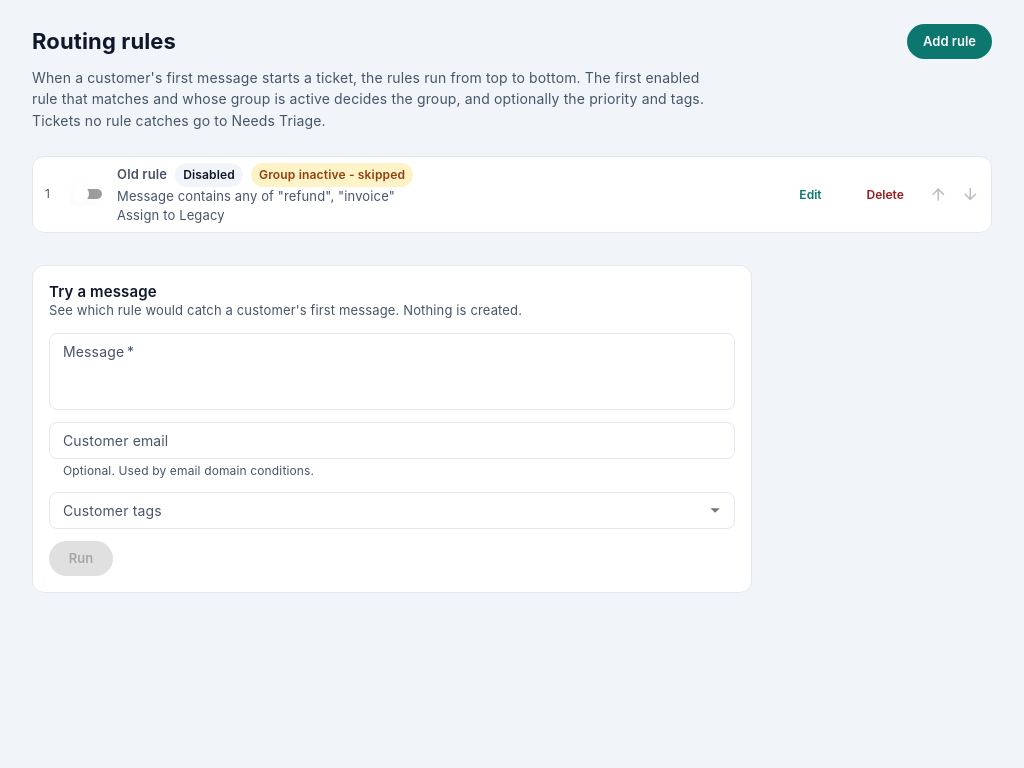
Test: RoutingRulesView list › toasts when enabling a rule with an inactive group is refused, and leaves the switch off
What coordinates should you click on to do the following:
click the switch named "Enable Old rule"
I would click on:
 (81, 194)
Its box is [73,186,89,202].
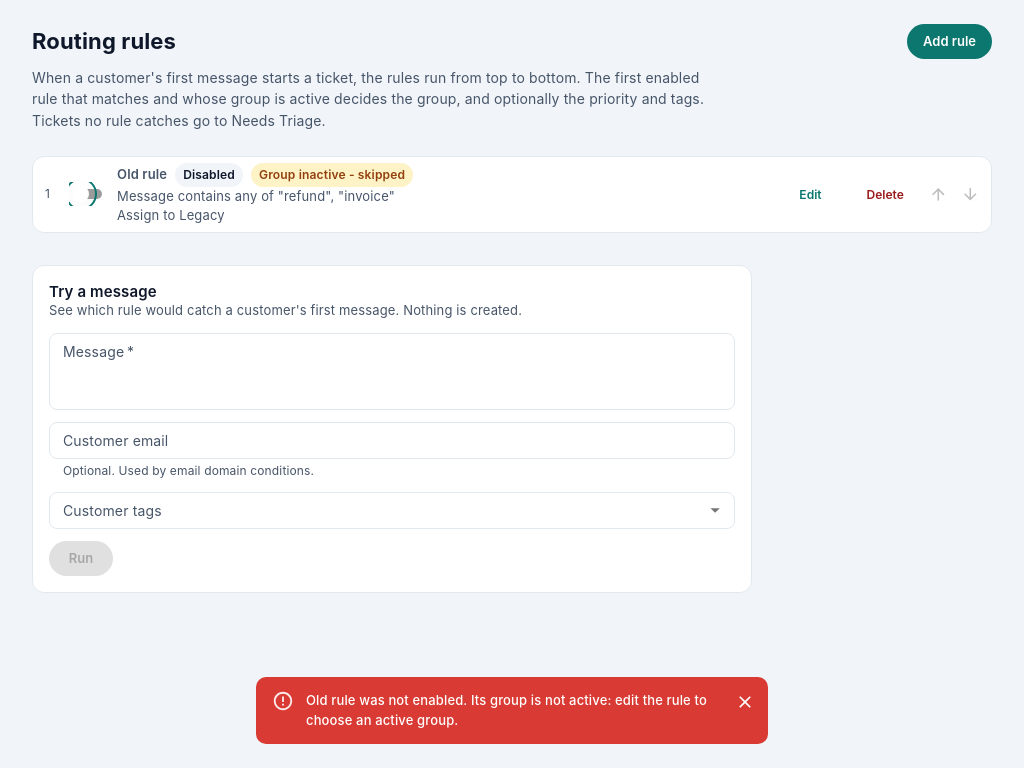
Result: the text "Old rule was not enabled. Its group is not active: edit the rule to choose an active group." is shown at [306,692,707,728]
